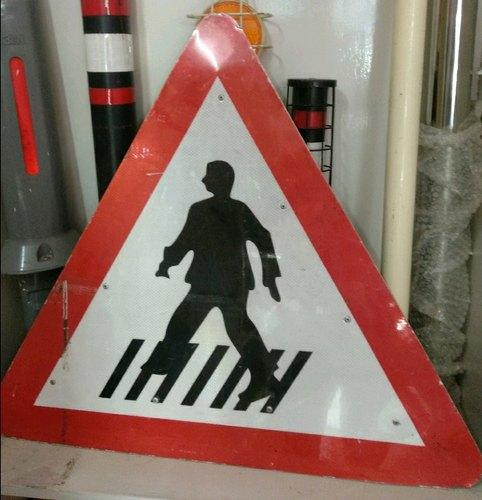pedestrian: (34, 16, 451, 500)
